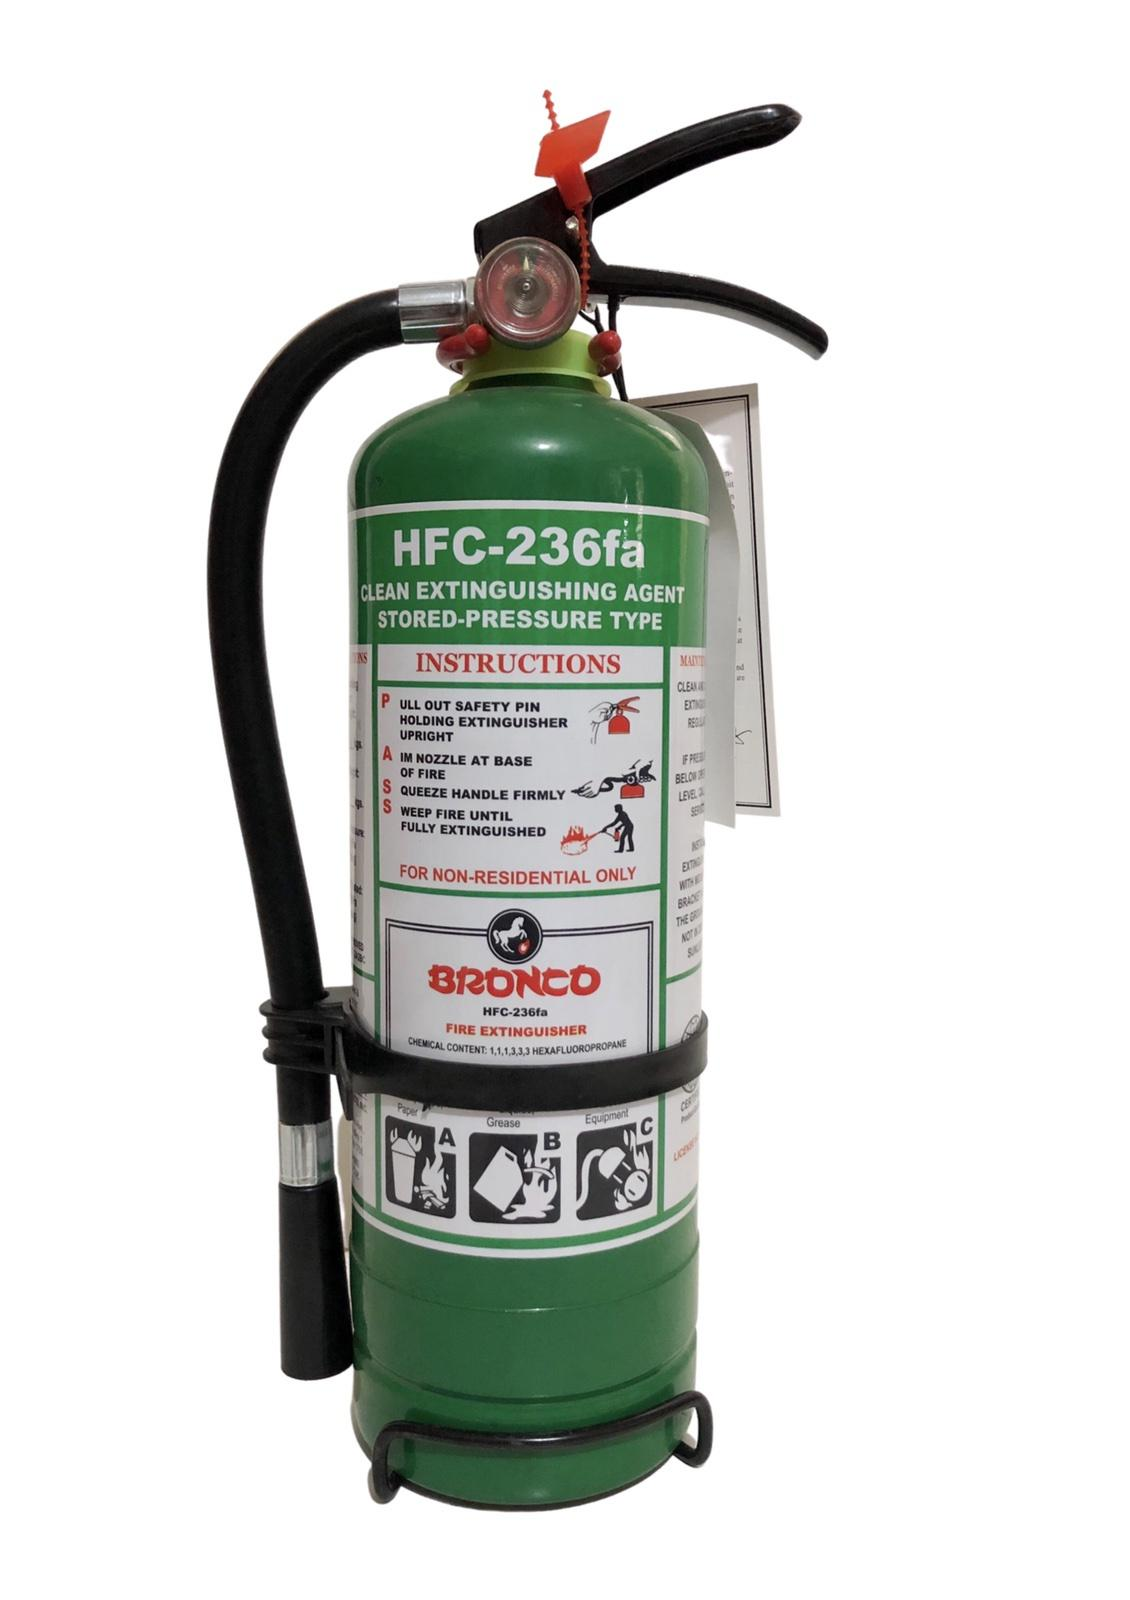Fire Extinguisher: (135, 55, 915, 1569)
